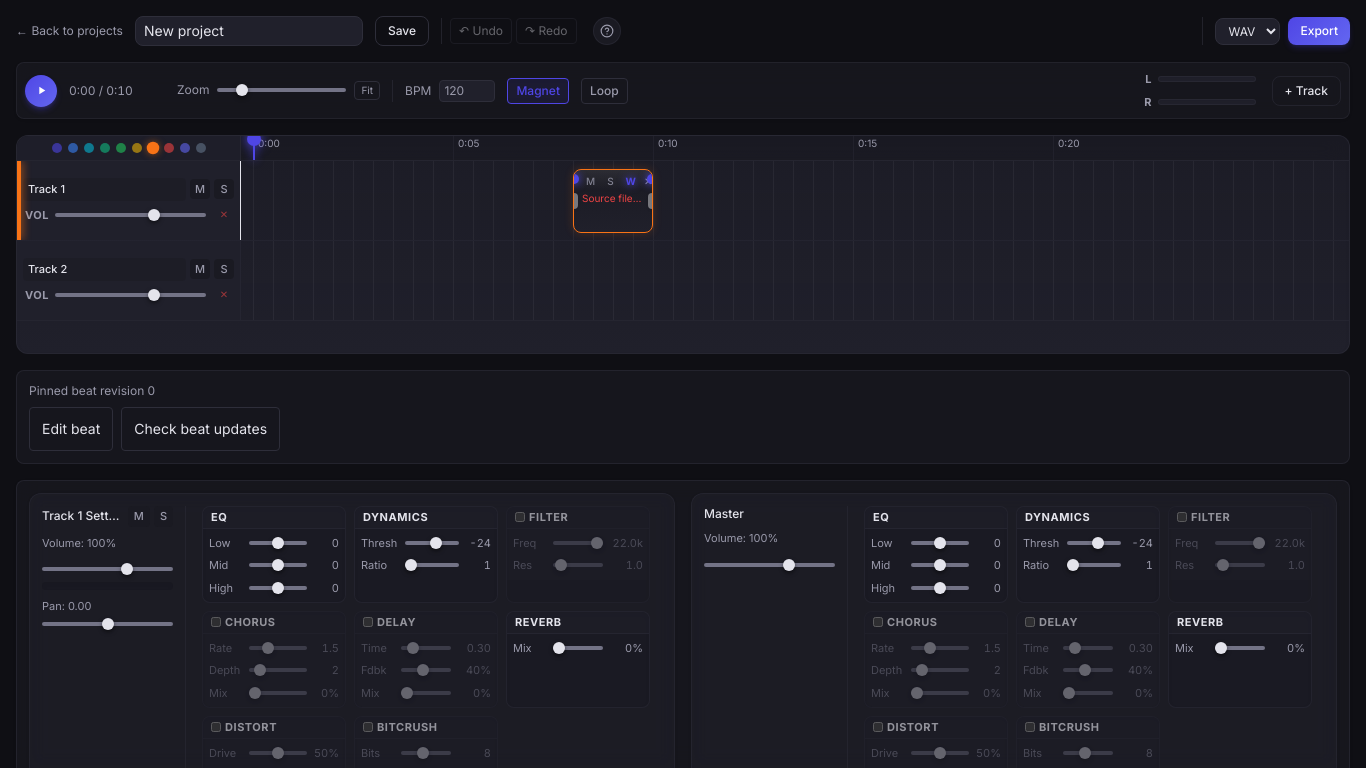
Test case: retains existing linked audio when the new render conflicts with its warp
The width and height of the screenshot is (1366, 768).
Step 1. Click the button "Check beat updates" → (201, 429), box [121, 407, 280, 451]
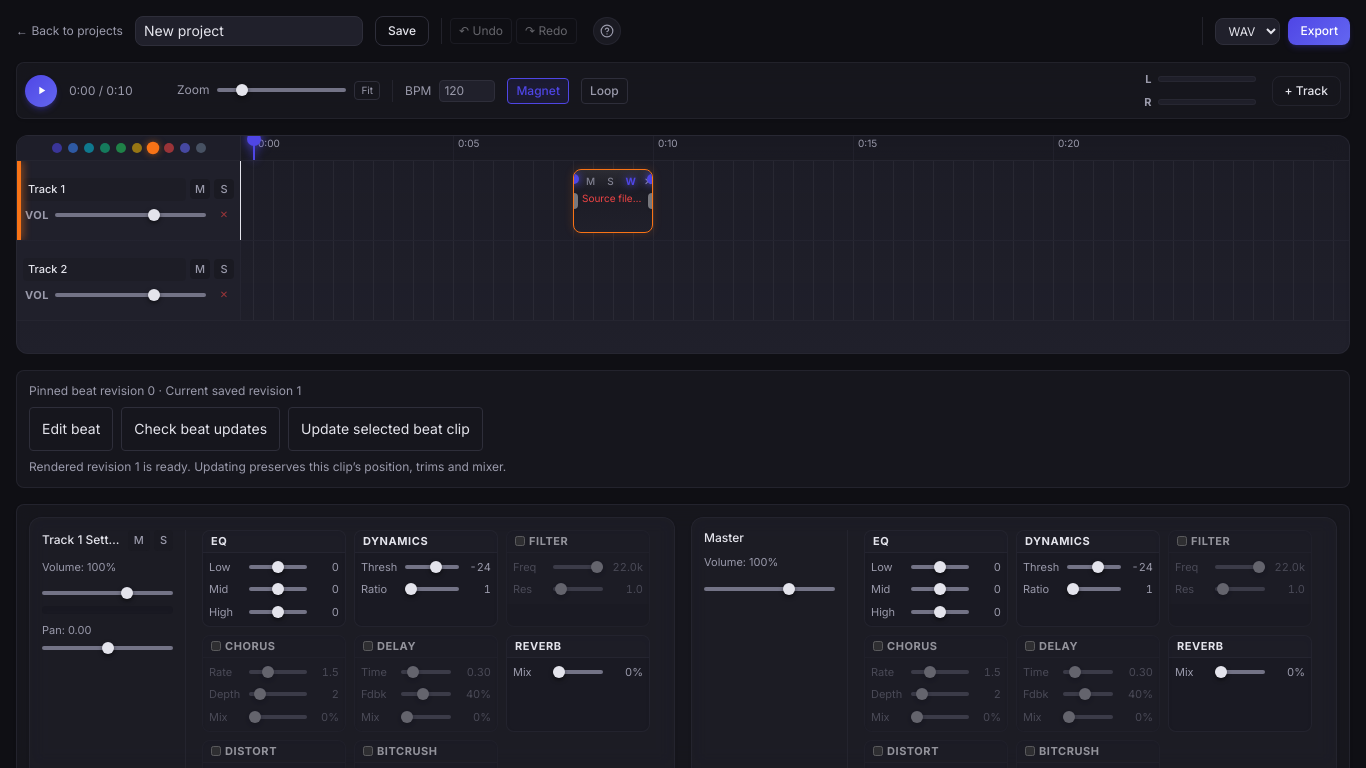
Step 2. Click the button "Update selected beat clip" → (385, 429), box [288, 407, 483, 451]
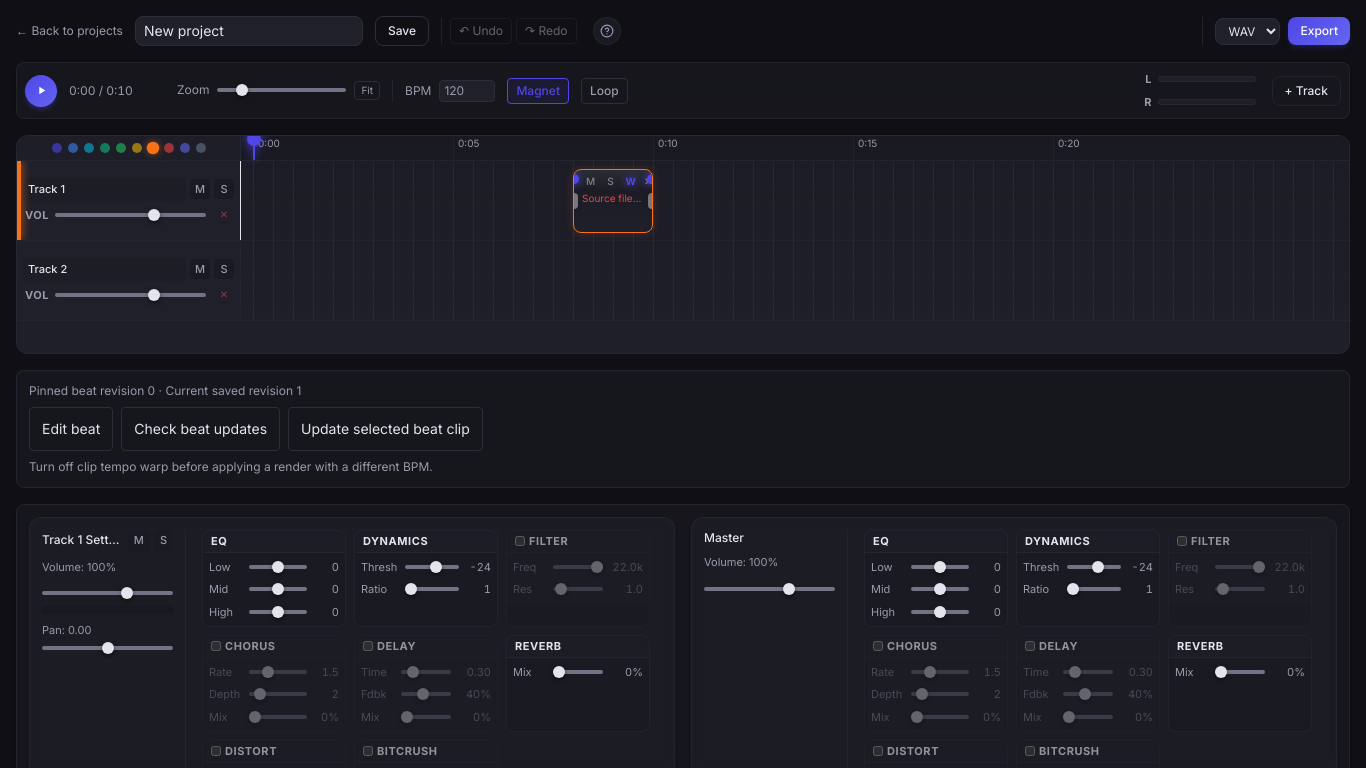
Now the text "Turn off clip tempo warp" is shown, box [29, 459, 433, 474]
